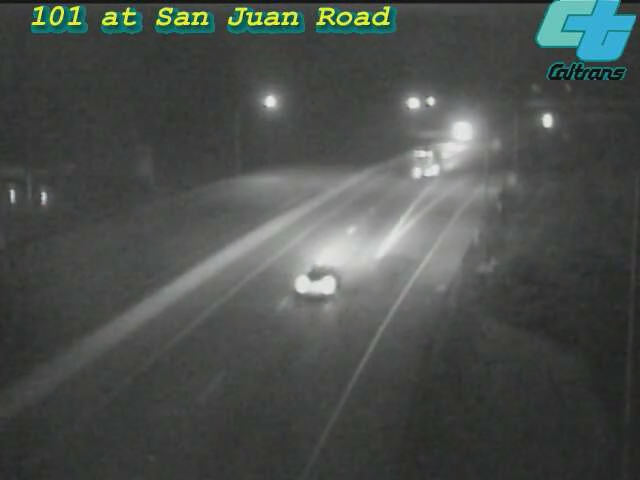vehicle: (381, 124, 461, 204), (280, 241, 360, 321), (439, 104, 489, 154), (523, 97, 573, 147), (431, 120, 481, 170)
